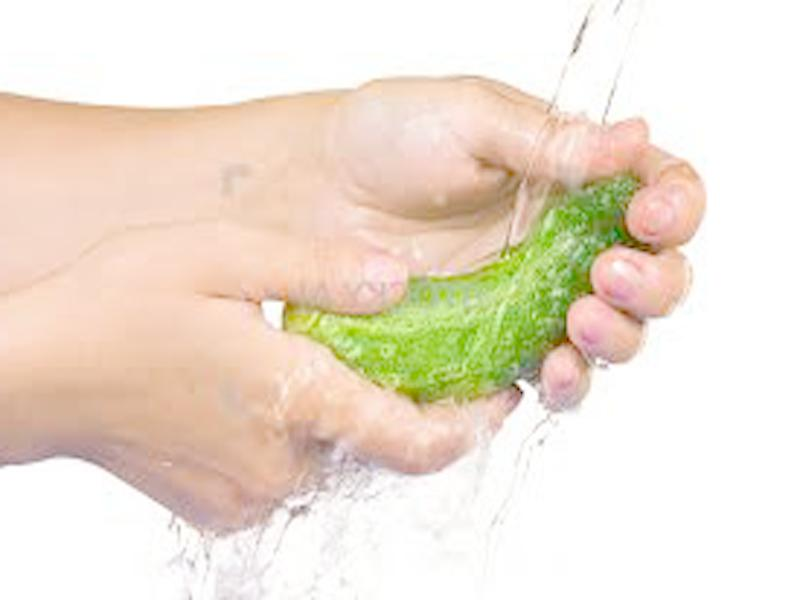Cucumber: (278, 174, 642, 407)
